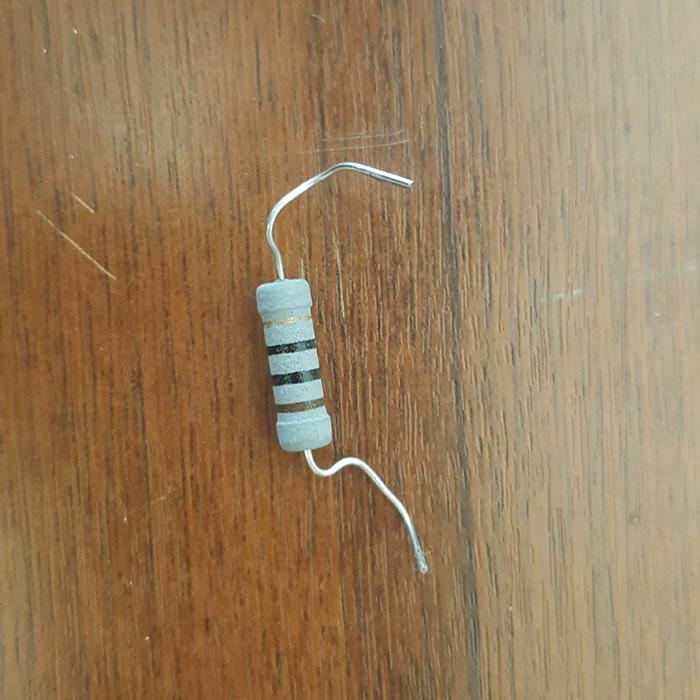resistor: (252, 273, 335, 452)
